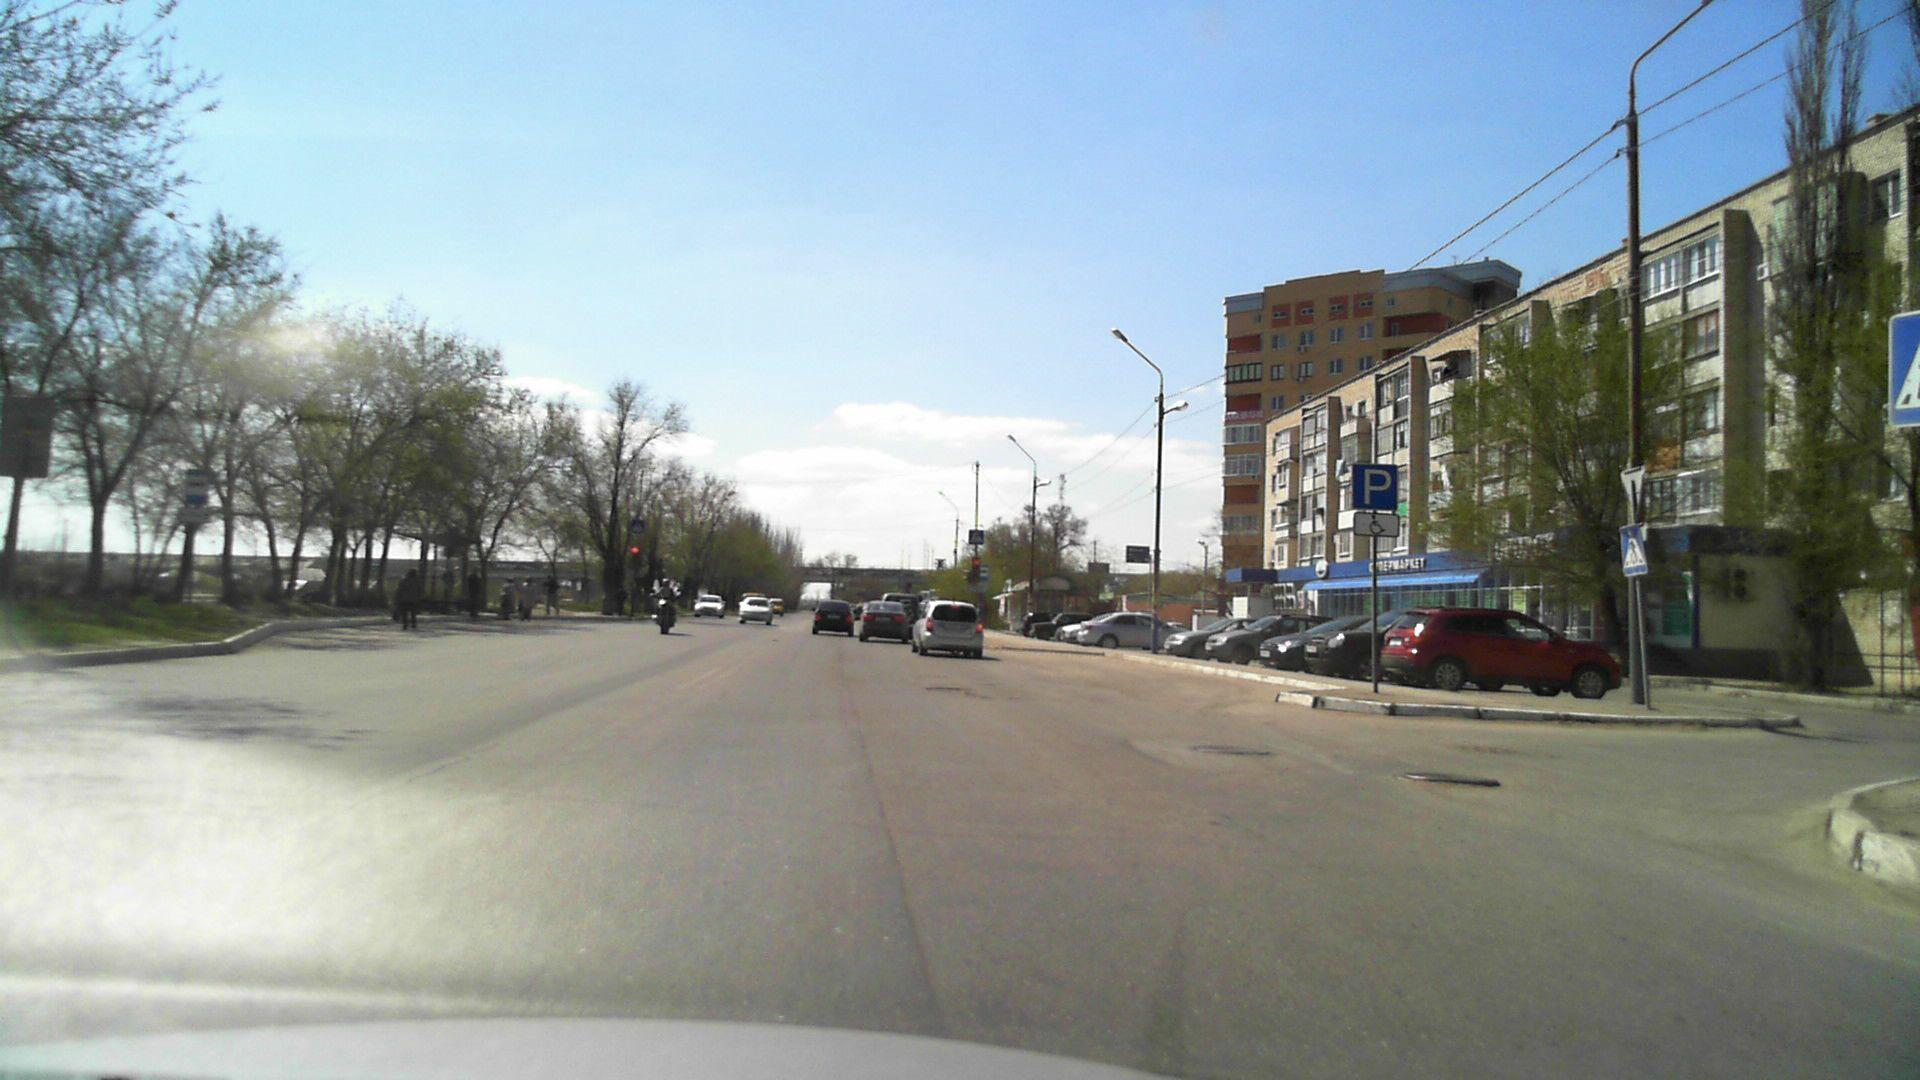5_19_1: (1887, 316, 1920, 425), (969, 527, 985, 547)
5_19_2: (1617, 526, 1647, 574), (630, 518, 647, 534)
6_4: (1352, 460, 1399, 510)
8_17: (1353, 512, 1399, 535)
